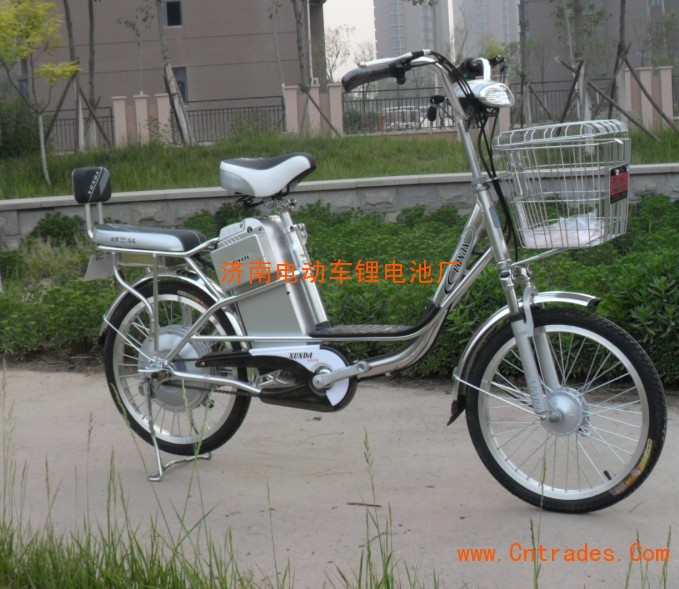电动车: (59, 44, 672, 516)
